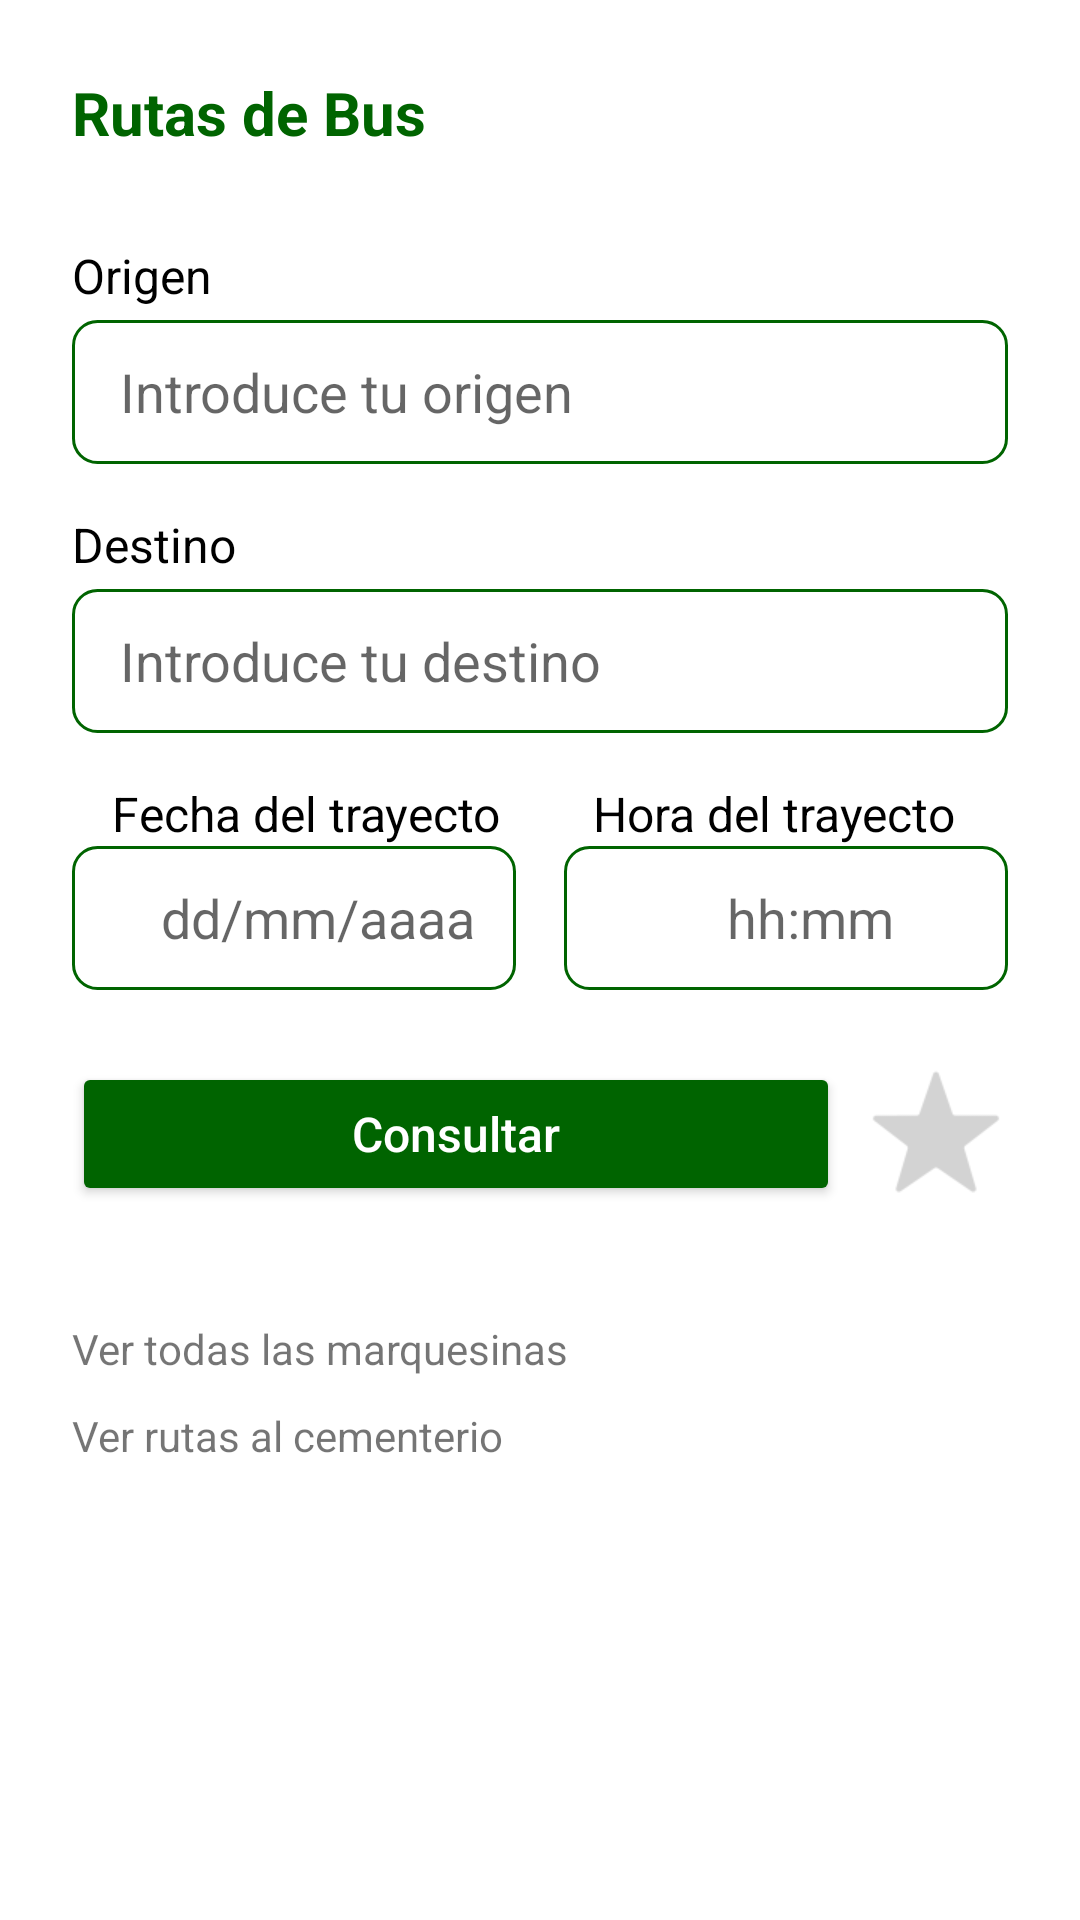

Point at icon controls on the screen. Image size 1080 x 1920, points as [x,y].
favorito: [936,1131]
